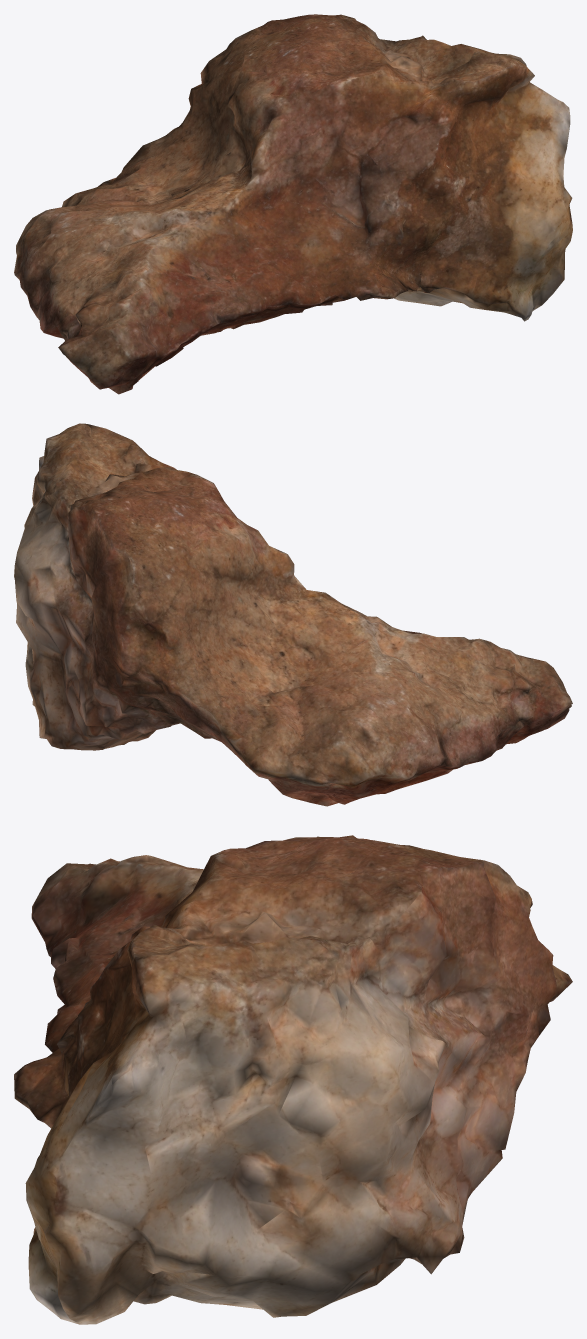
Rendered from stone_01.glb.
3 views of the same model, one above another, from view 1: azimuth 30°, elevation 25°; view 2: azimuth 150°, elevation 25°; view 3: azimuth 270°, elevation 25° (orthographic). The views are drawn at different scales.
Parts seen in each view (by area): view 1: stone_01; view 2: stone_01; view 3: stone_01.
Part boxes in pixels (left/top/right/bottom): stone_01: left=14, top=14, right=572, bottom=394; stone_01: left=14, top=423, right=572, bottom=806; stone_01: left=14, top=835, right=572, bottom=1324.
Bounding box in the file's own units: 0.1469 × 0.0718 × 0.089.
Materials: 1 (1 with a texture image).
